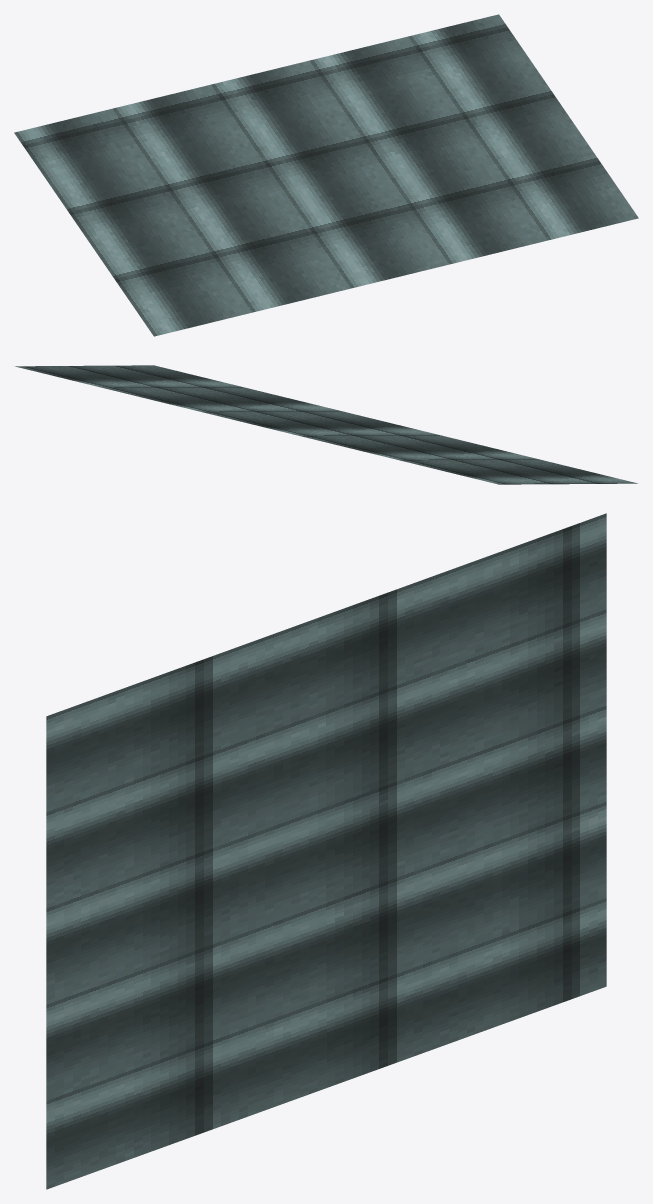
File: roof_edge_mid_2.glb
3 renders of one model, top to bottom at view 1: azimuth 30°, elevation 25°; view 2: azimuth 150°, elevation 25°; view 3: azimuth 270°, elevation 25°, orthographic. The views are drawn at different scales.
Parts seen in each view (by area): view 1: roof_edge_mid_2; view 2: roof_edge_mid_2; view 3: roof_edge_mid_2.
Part boxes in pixels (x1,y1,x2,y2): roof_edge_mid_2: (14,14,638,336); roof_edge_mid_2: (15,365,637,484); roof_edge_mid_2: (46,513,606,1189).
Bounding box in the file's own units: 2 × 0.4 × 1.
Materials: 1 (1 with a texture image).
